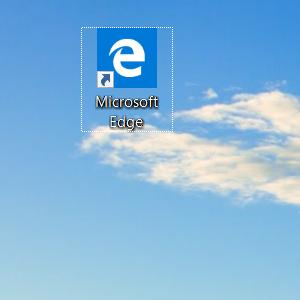edge: (97, 28, 157, 88)
